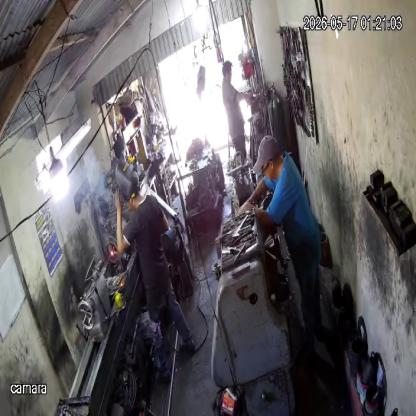lentes: (260, 158, 270, 174)
